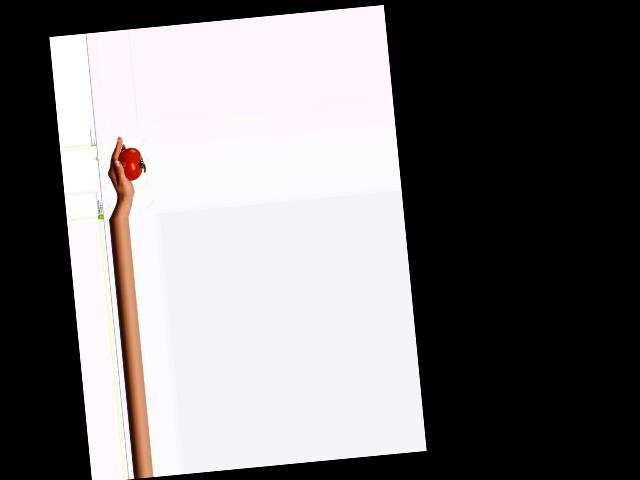tomato: (117, 147, 142, 181)
